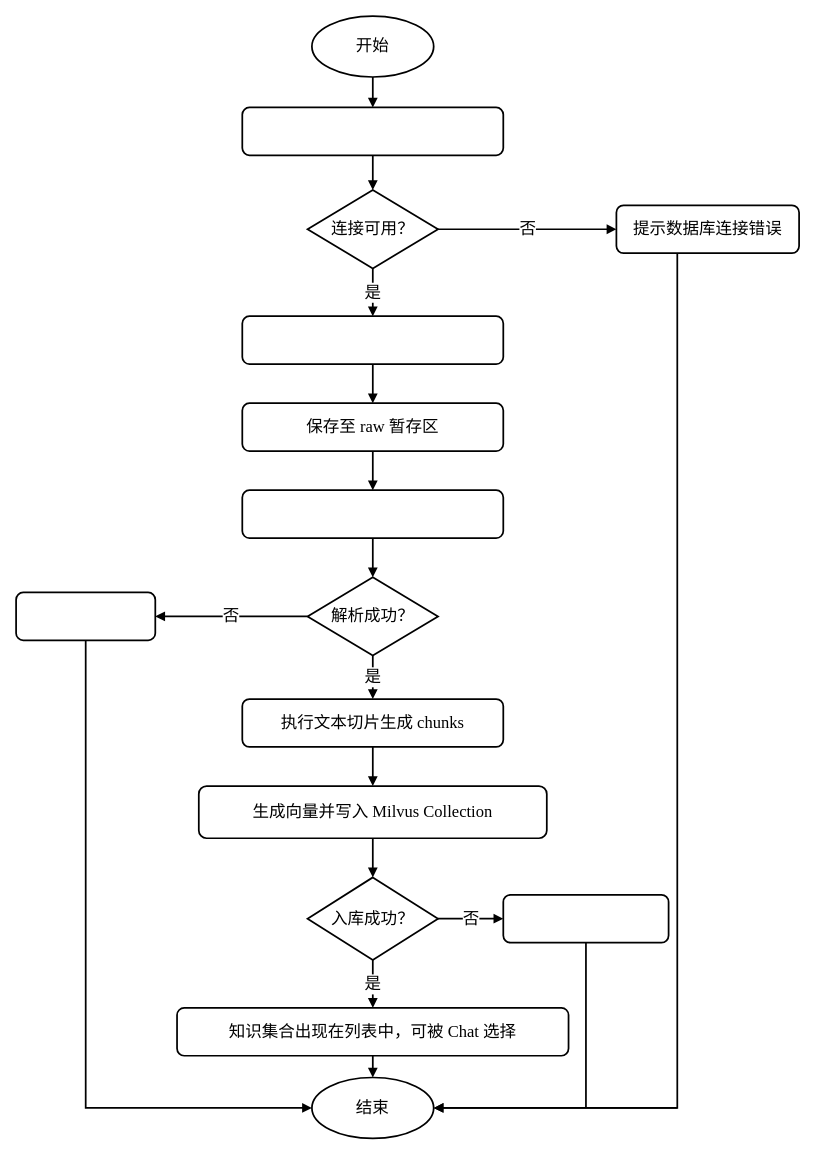
The diagram is 814 pixels wide and 1154 high, and some of its shapes have lost their labels. Here are the shapes that lost their labels. From the top down, the centre of each, then its label:
At (372,131): "配置 Milvus 连接信息".
At (372,340): "上传原始知识文件".
At (372,514): "执行文本解析生成 corpus".
At (85,616): "显示解析失败信息".
At (585,918): "显示索引失败信息".
